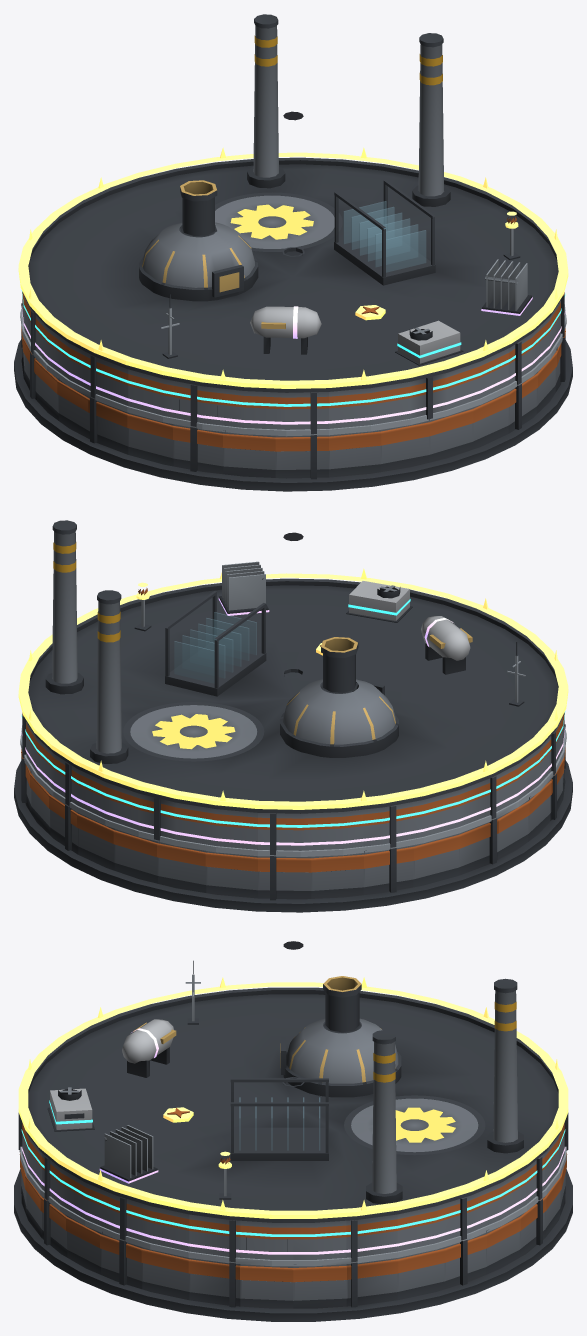
File: glassworks_m_far.glb
The picture shows the model from 3 angles, top to bottom: view 1: azimuth 30°, elevation 25°; view 2: azimuth 150°, elevation 25°; view 3: azimuth 270°, elevation 25°; orthographic projection.
Visible parts, largest first — view 1: Roof, Base, L5, L4, L2, L3; view 2: Roof, Base, L5, L4, L2, L3; view 3: Roof, Base, L5, L4, L2, L3.
Boxes of the visible parts, x1,y1,x2,y2 form: Roof: (22,14,564,434); Base: (14,303,572,491); L5: (18,147,568,388); L4: (21,259,565,424); L2: (20,294,566,436); L3: (21,247,565,406); Roof: (22,520,564,855); Base: (14,724,572,912); L5: (18,568,568,809); L4: (21,561,565,845); L2: (20,642,566,856); L3: (21,581,565,827); Roof: (18,941,568,1262); Base: (14,1150,572,1321); L5: (18,977,568,1218); L4: (21,1019,565,1254); L2: (20,960,566,1266); L3: (21,1077,565,1236).
Size of the model in its own units: 14.75 by 7.52 by 14.75.
